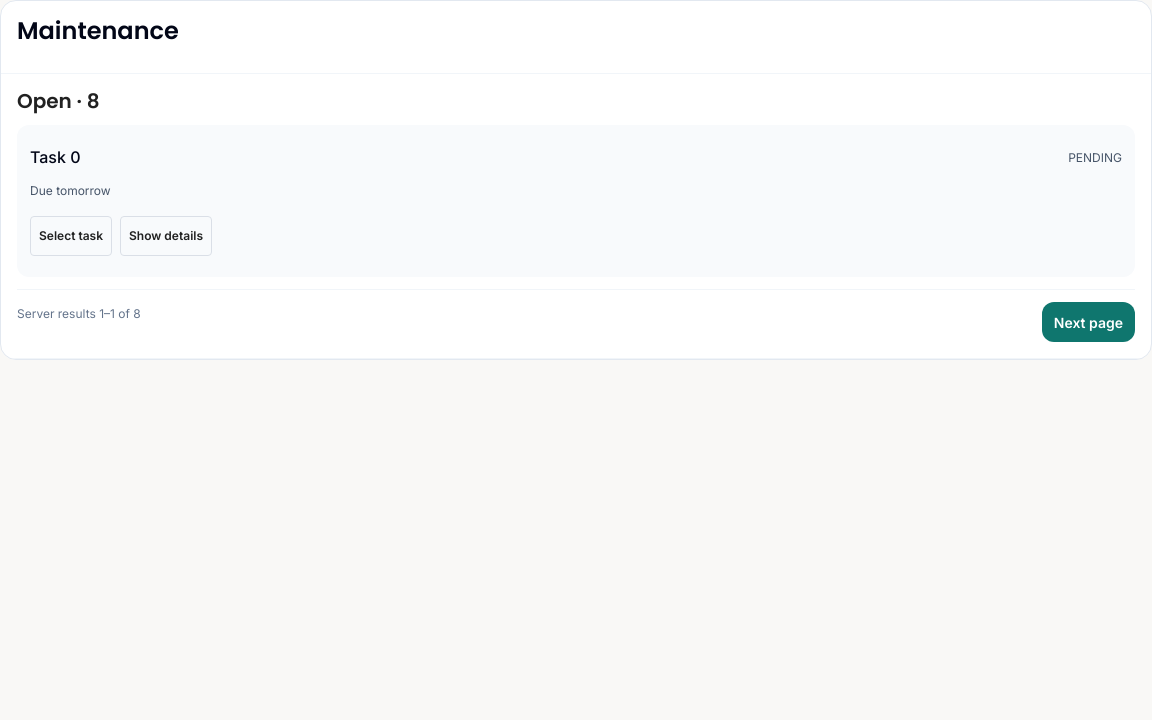
Test case: clicking a maintenance task title opens canonical detail inline without navigating
Click the button "Task 0" at (55, 158), box [30,138,80,178]
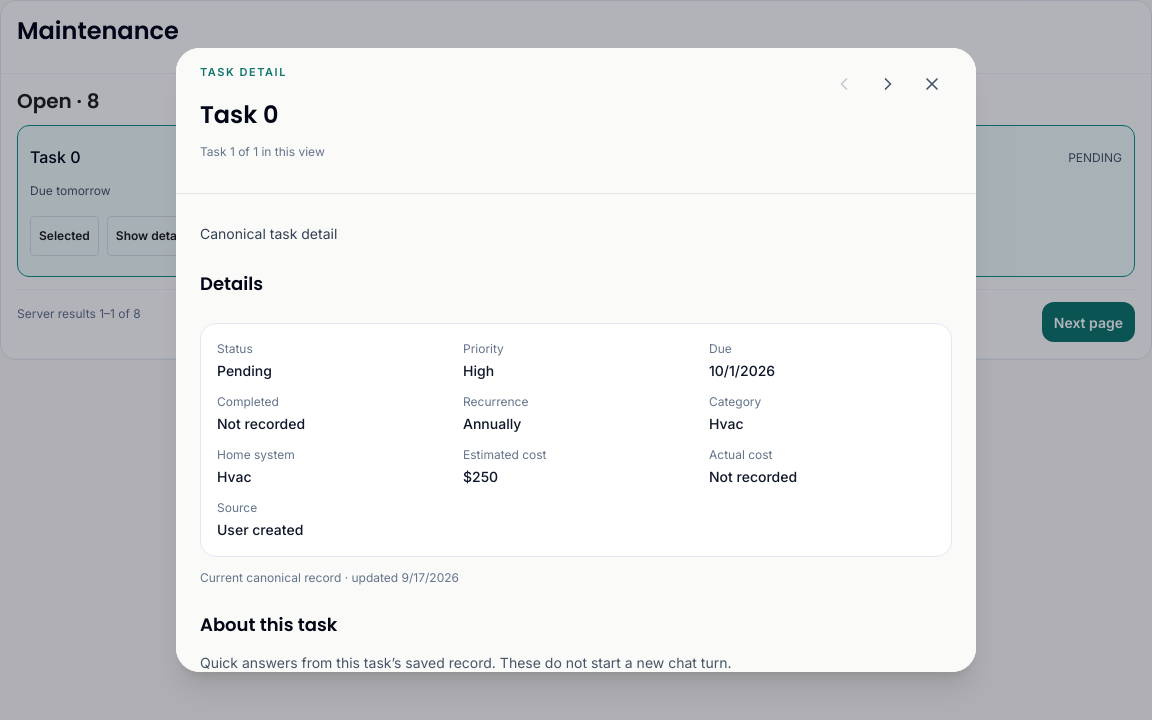
Check: the text "Canonical task detail" is shown, box [200,225,337,242]
Check: the dialog is shown
Check: the text "Task 1 of 1 in this view" is shown, box [200,143,325,161]
